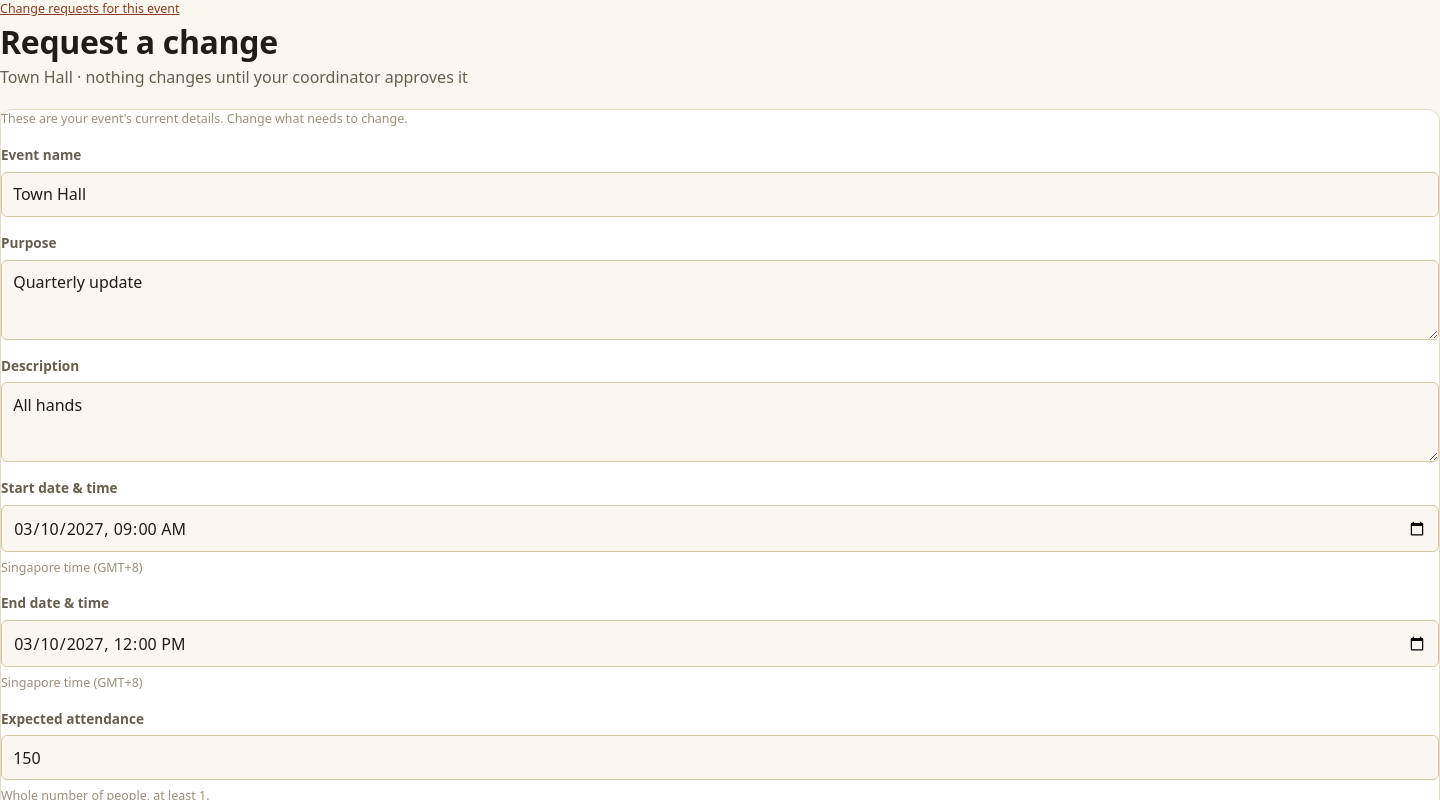
Test: EO03 — the organiser requests a change › EO03 AC16 (boundary): an event spanning two dates is warned that venues are booked within one day
The image size is (1440, 800).
Replace the text in the field labelled "End date & time" with "2027-03-11T01:00" at point(720, 644), box [1,620,1439,667]
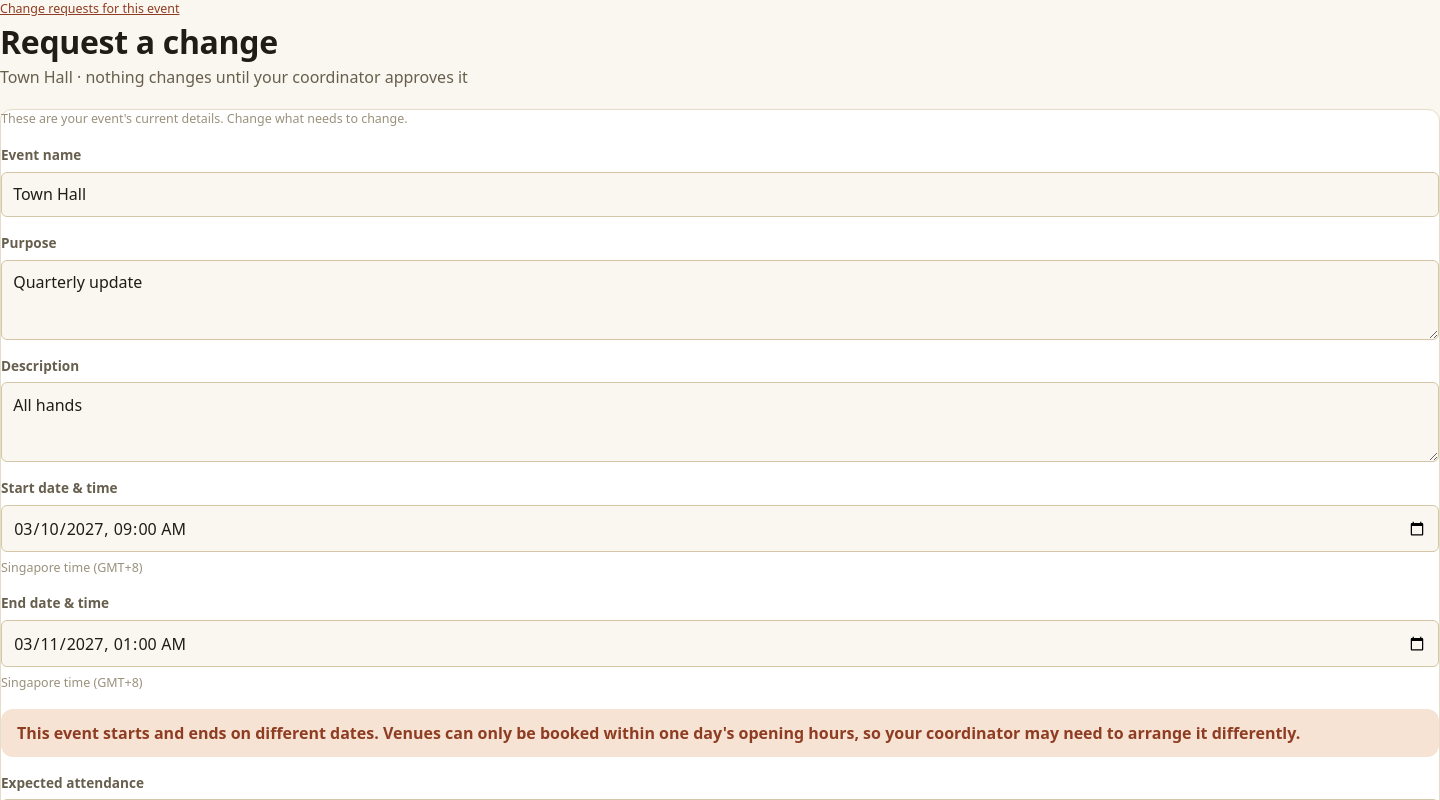
Result: the text "starts and ends on different dates" is shown at [17,722,1300,744]
